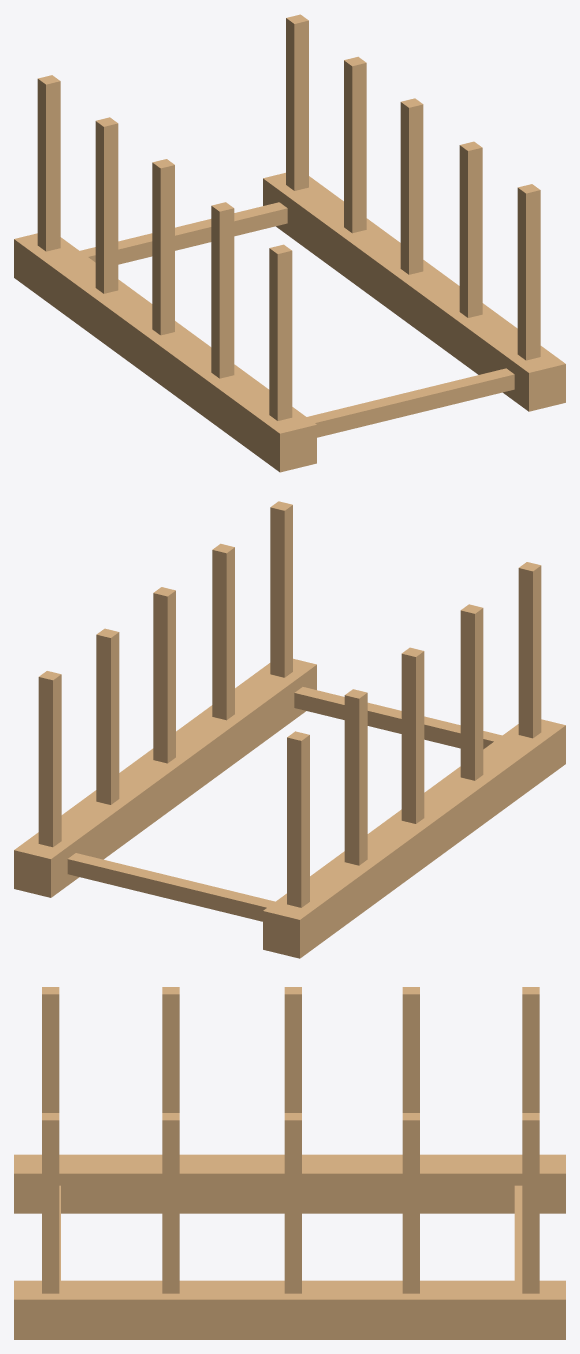
Rendered from Soporte_platos.fbx.
The picture shows the model from 3 angles, top to bottom: view 1: azimuth 30°, elevation 25°; view 2: azimuth 150°, elevation 25°; view 3: azimuth 270°, elevation 25°; orthographic projection. The views are drawn at different scales.
Parts seen in each view (by area): view 1: Cube.051; view 2: Cube.051; view 3: Cube.051.
Boxes of the visible parts, <box> form: Cube.051: <box>14,14,565,472</box>; Cube.051: <box>14,501,565,958</box>; Cube.051: <box>14,987,565,1339</box>.
Bounding box in the file's own units: 3.26 × 2.24 × 5.26.
